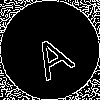A: (25, 25, 77, 81)
